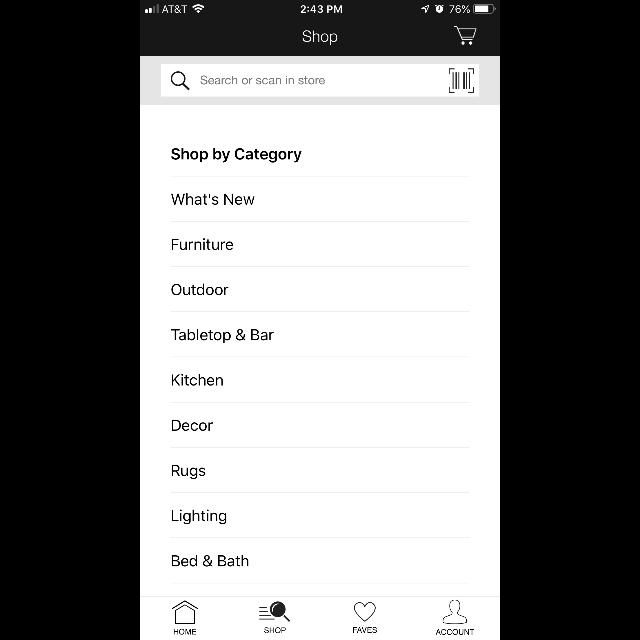icon: (172, 600, 198, 624), (448, 69, 474, 93), (260, 602, 290, 622), (443, 600, 467, 624), (354, 602, 376, 622), (454, 27, 476, 46), (170, 72, 190, 90)
input: (161, 65, 479, 97)
text: (172, 148, 302, 162), (172, 328, 274, 344), (172, 193, 255, 205), (201, 76, 325, 84), (172, 555, 248, 567), (172, 510, 226, 524), (172, 238, 234, 250), (172, 284, 228, 296), (172, 374, 222, 386), (302, 30, 338, 46), (172, 465, 206, 479), (172, 420, 214, 430), (436, 629, 474, 635), (353, 627, 377, 633), (174, 629, 196, 635), (264, 627, 286, 633)
uppertaskbar: (140, 0, 500, 14)
